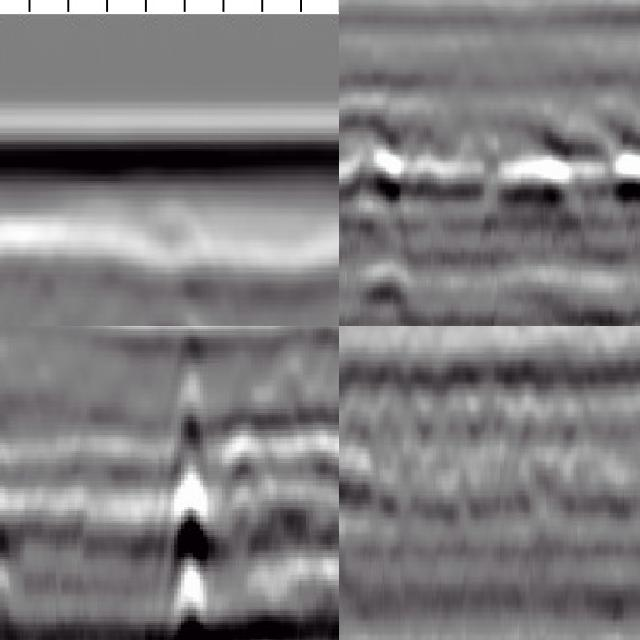crack: (168, 330, 211, 640)
loose: (340, 110, 640, 323), (340, 336, 465, 542), (128, 214, 291, 327)
